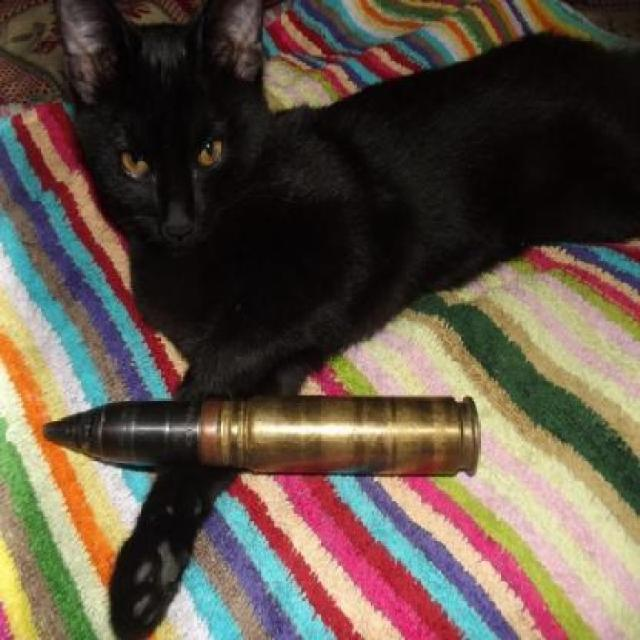cat: (51, 0, 343, 362)
